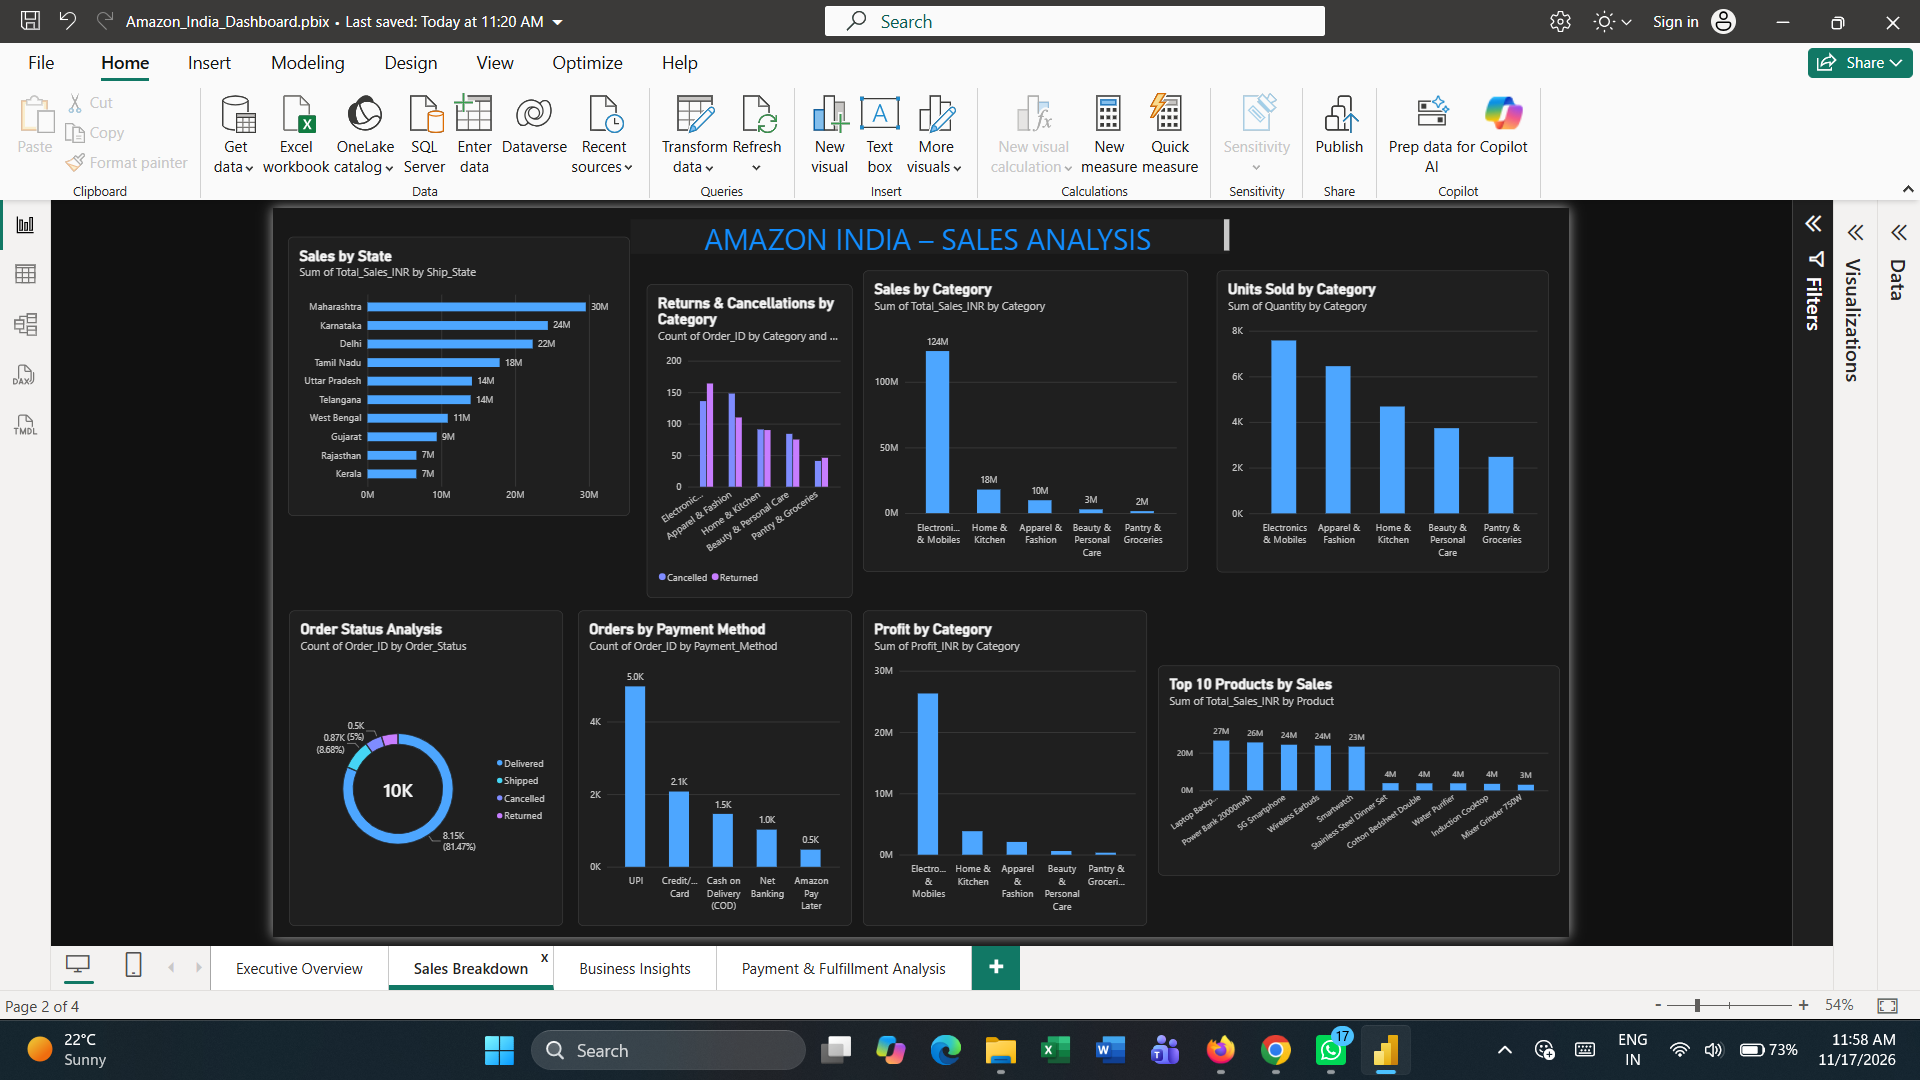

The dashboard page shown, as its layout file describes it:
{"tool":"powerbi","page":{"name":"Sales Breakdown","canvas":[1920,1080],"ordinal":1},"visuals":[{"type":"clusteredColumnChart","title":"Sales by Category","fields":{"Category":["Sheet1.Category"],"Y":["Sum(Sheet1.Total_Sales_INR)"]},"box":[874.8,92.6,481.6,446.7],"z":0},{"type":"clusteredBarChart","title":"Sales by State","fields":{"Category":["Sheet1.Ship_State"],"Y":["Sum(Sheet1.Total_Sales_INR)"]},"box":[22.6,43.2,506.3,413.7],"z":1},{"type":"donutChart","title":"Order Status Analysis","fields":{"Category":["Sheet1.Order_Status"],"Y":["CountNonNull(Sheet1.Order_ID)"]},"box":[23.5,597.2,405.5,467.2],"z":2},{"type":"clusteredColumnChart","title":"Orders by Payment Method","fields":{"Category":["Sheet1.Payment_Method"],"Y":["CountNonNull(Sheet1.Order_ID)"]},"box":[452.4,597.2,405.4,466.9],"z":3},{"type":"clusteredColumnChart","title":"Top 10 Products by Sales","fields":{"Category":["Sheet1.Product"],"Y":["Sum(Sheet1.Total_Sales_INR)"]},"box":[1311.2,677.2,595.4,311.3],"z":4},{"type":"textbox","box":[529,16.5,887.1,51.5],"z":6},{"type":"clusteredColumnChart","title":"Profit by Category","fields":{"Category":["Sheet1.Category"],"Y":["Sum(Sheet1.Profit_INR)"]},"box":[874.1,597.2,421,467],"z":12},{"type":"clusteredColumnChart","title":"Units Sold by Category","fields":{"Category":["Sheet1.Category"],"Y":["Sum(Sheet1.Quantity)"]},"box":[1398.9,92.3,492.2,447],"z":13},{"type":"clusteredColumnChart","title":"Returns & Cancellations by Category","fields":{"Category":["Sheet1.Category"],"Series":["Sheet1.Order_Status"],"Y":["CountNonNull(Sheet1.Order_ID)"]},"box":[553.7,113.2,304.6,465.2],"z":14}]}

Visuals, with their boxes on the page's 1920x1080 design canvas (x1, y1, x2, y2). These are canvas units, not pixel positions in the 1920x1080 screenshot, which may show the page scaled, cropped or inside an application window:
"Sales by Category" clusteredColumnChart: (875,93,1356,539)
"Sales by State" clusteredBarChart: (23,43,529,457)
"Order Status Analysis" donutChart: (24,597,429,1064)
"Orders by Payment Method" clusteredColumnChart: (452,597,858,1064)
"Top 10 Products by Sales" clusteredColumnChart: (1311,677,1907,988)
textbox: (529,16,1416,68)
"Profit by Category" clusteredColumnChart: (874,597,1295,1064)
"Units Sold by Category" clusteredColumnChart: (1399,92,1891,539)
"Returns & Cancellations by Category" clusteredColumnChart: (554,113,858,578)
